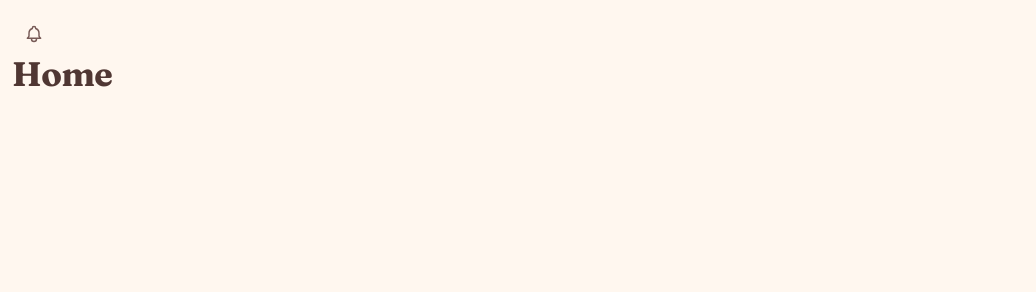
PetParentNotificationPopover › says when the list cannot load, and tries again on request
Step 1. Click the button named "Open notifications" → (34, 34), box [12, 12, 56, 56]
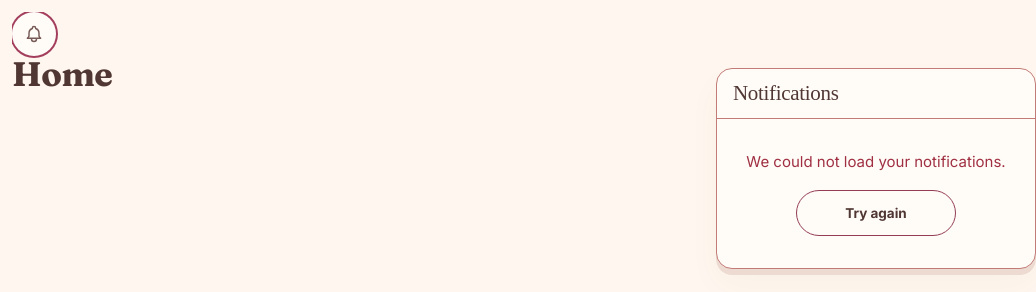
Result: the message reads "We could not load your notifications." at [746, 152, 1006, 171]
Step 2. Click the button "Try again" → (876, 213), box [796, 190, 956, 236]
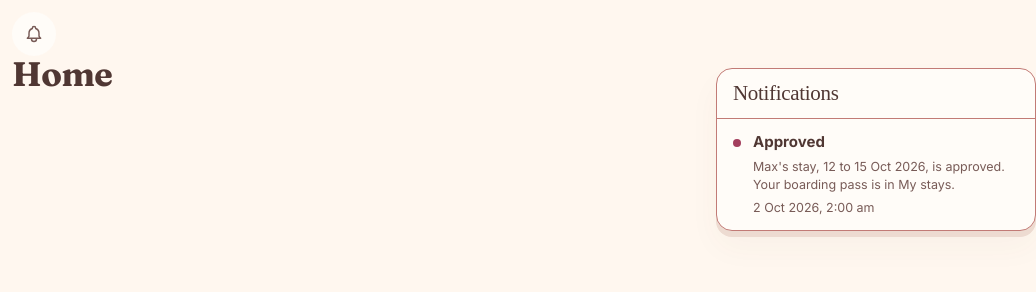
Result: the text "Max's stay, 12 to 15 Oct 2026, is approved. Your boarding pass is in My stays." is shown at [753, 158, 1019, 195]
Result: the message "We could not load your notifications." is gone
